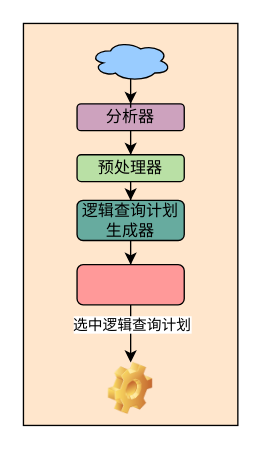
Some shapes in this 261 by 449 pixel diagram are drawn without their labels. Each missing label, with the centre of its shape:
查询: (130,60)
查询重写器: (130,284)
